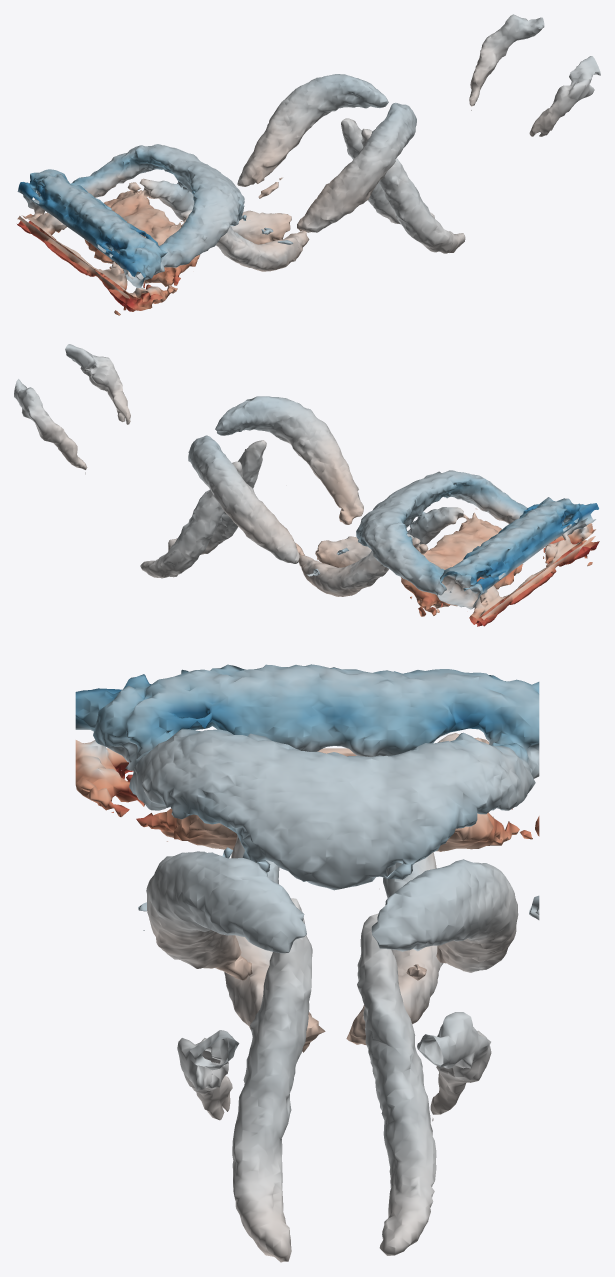
Rendered from q085-full.glb.
3 views of the same model, one above another, from view 1: azimuth 30°, elevation 25°; view 2: azimuth 150°, elevation 25°; view 3: azimuth 270°, elevation 25° (orthographic). The views are drawn at different scales.
Bounding box in the file's own units: 6.32 × 2.12 × 2.54.
